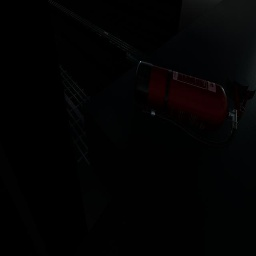FireExtinguisher ]: (134, 61, 250, 149)
